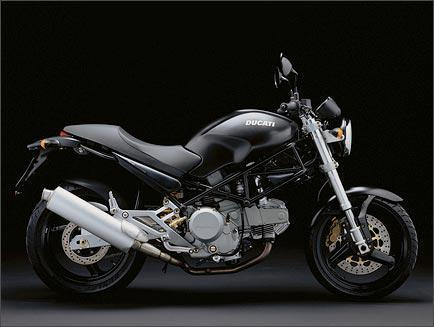motorcycle: (10, 37, 425, 305)
